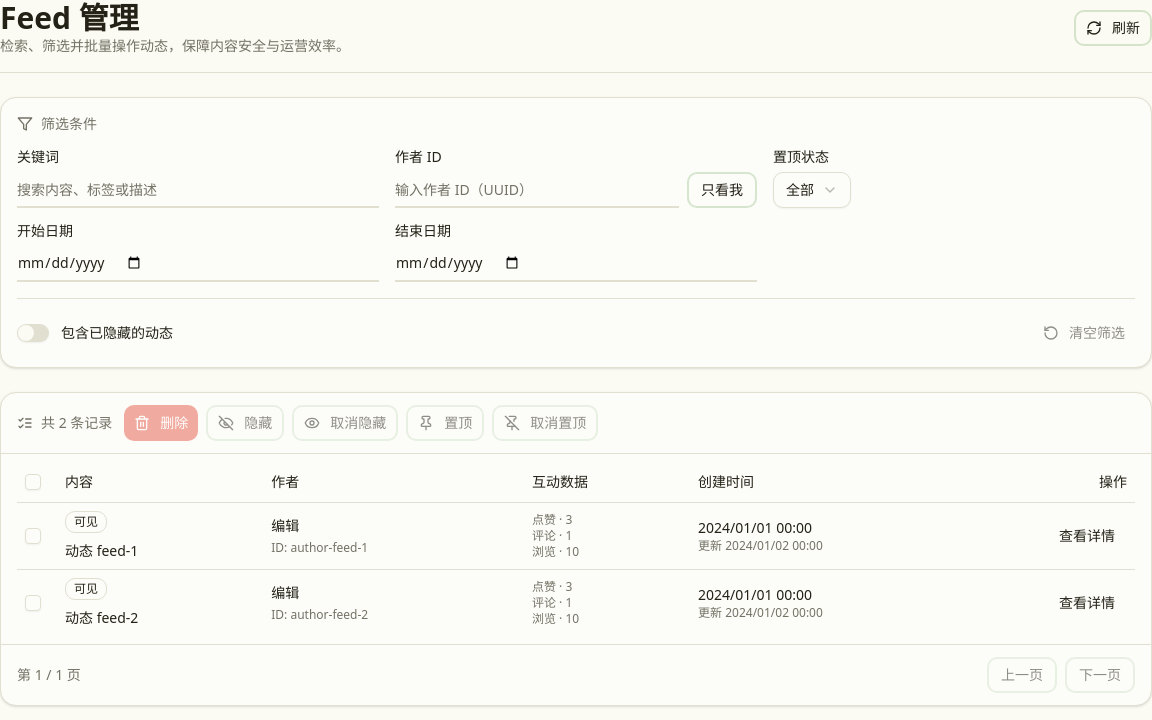
Test: FeedAdminClient › handles batch hide action with confirmation and refresh
Expected: the text "动态 feed-1" is shown, top-left (65, 540), bottom-right (138, 560)
Click the checkbox named "选择动态 feed-1" at (33, 536), box top-left (25, 528), bottom-right (41, 544)
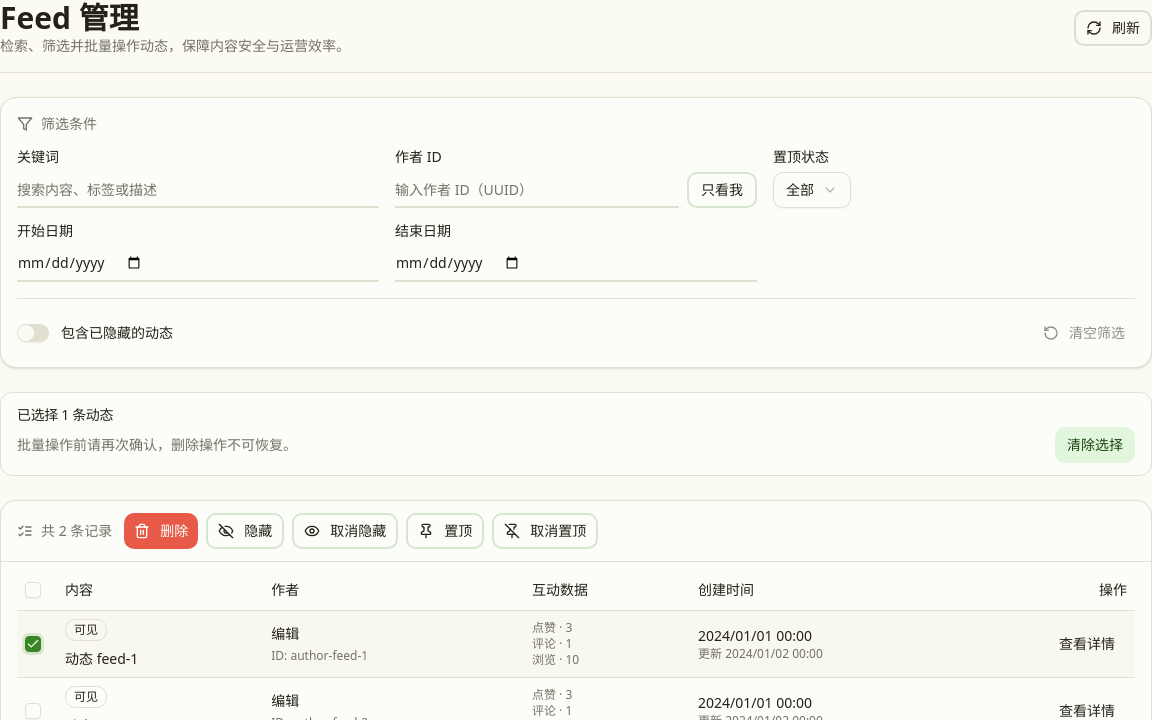
Click the checkbox named "选择动态 feed-2" at (33, 710), box top-left (25, 702), bottom-right (41, 718)
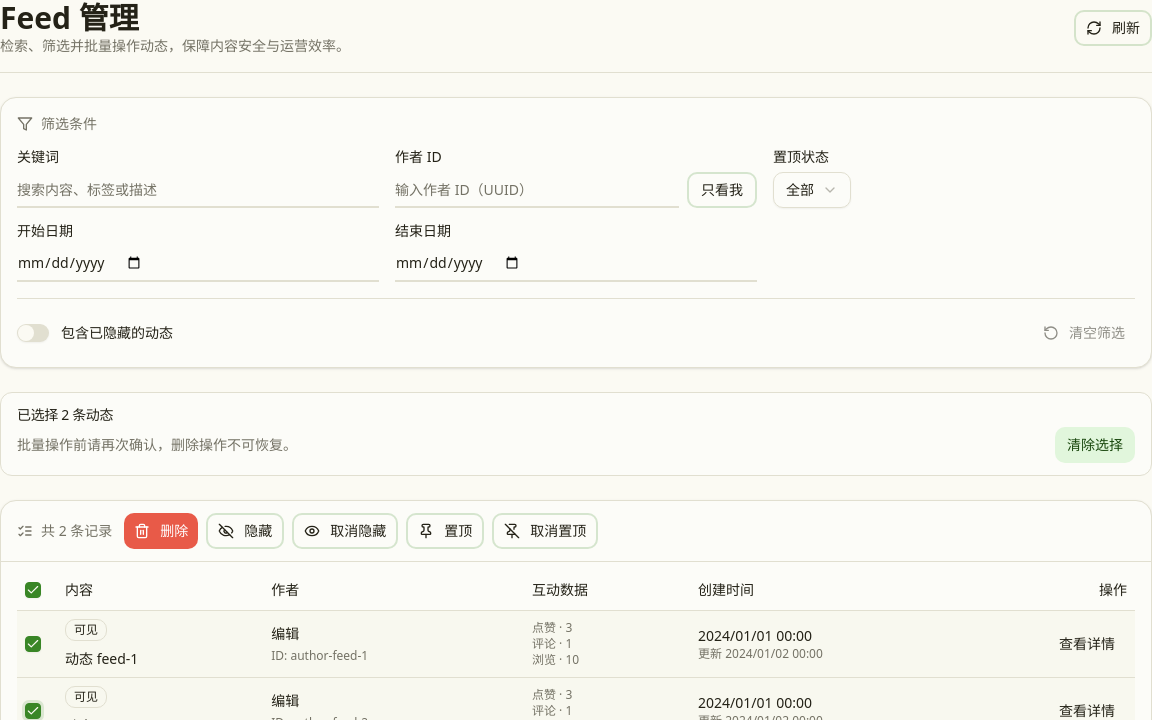
Result: the text "已选择 2 条动态" is shown at top-left (17, 405), bottom-right (113, 424)
Click the button "隐藏" at (245, 531), box top-left (206, 513), bottom-right (284, 549)
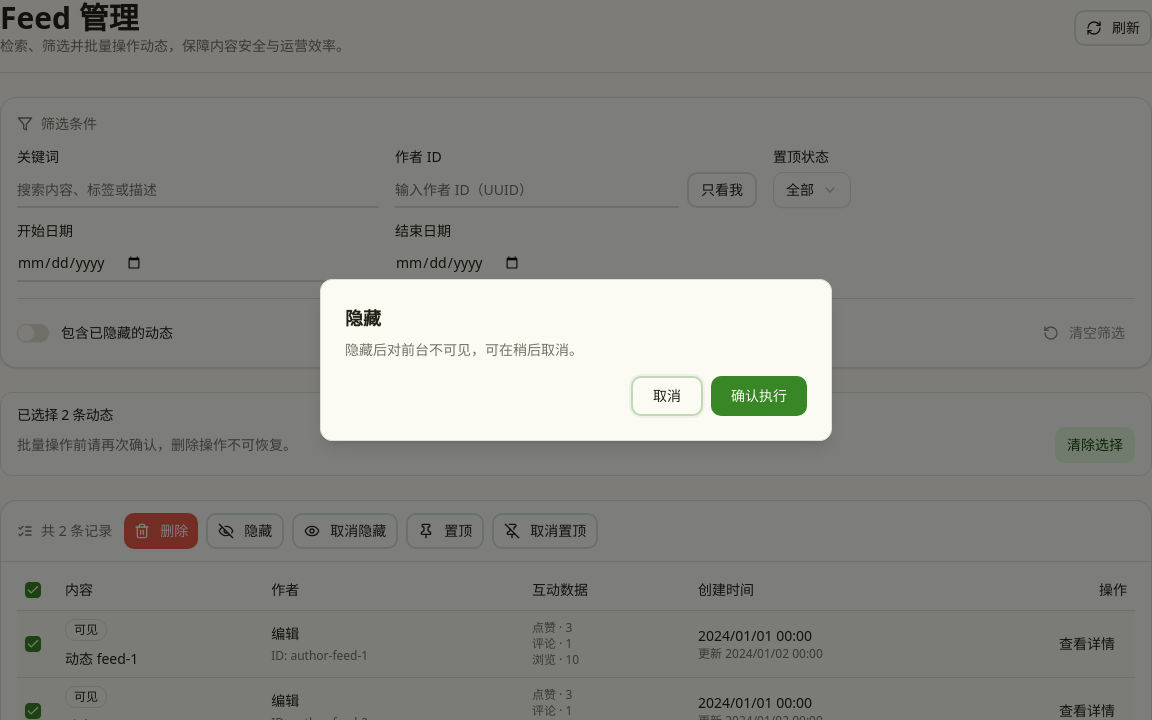
Click the button "确认执行" at (759, 396), box top-left (711, 376), bottom-right (807, 416)
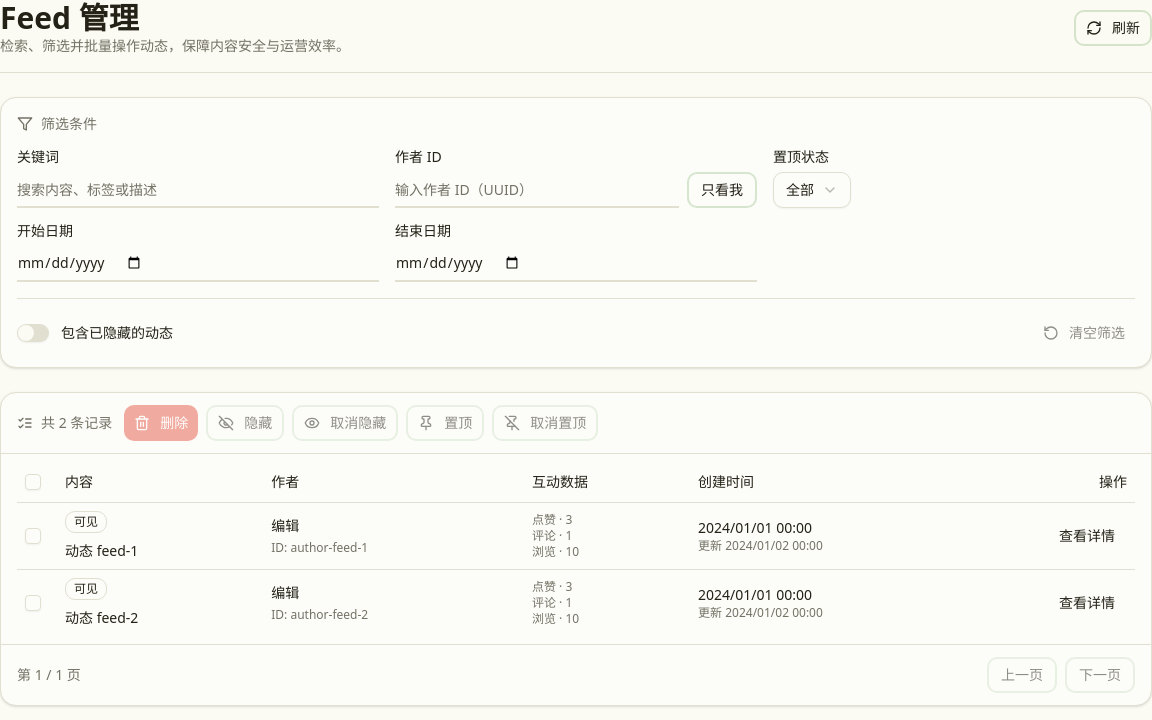
Result: the text "已选择" is gone
